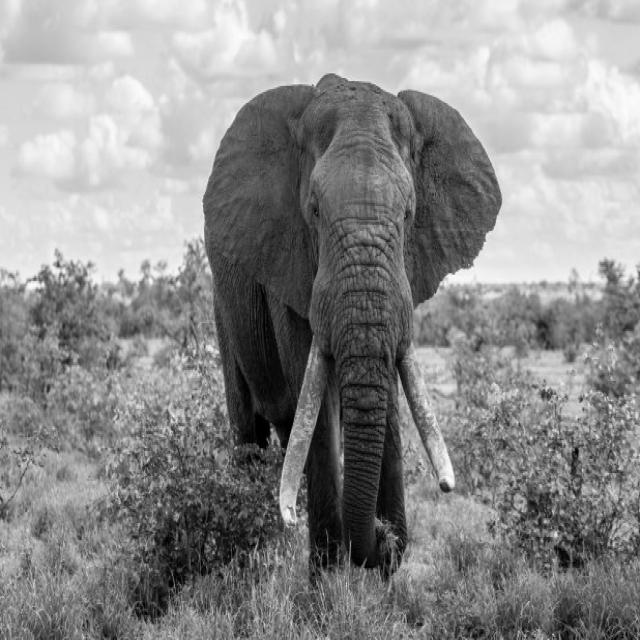Elephant: (201, 70, 502, 584)
